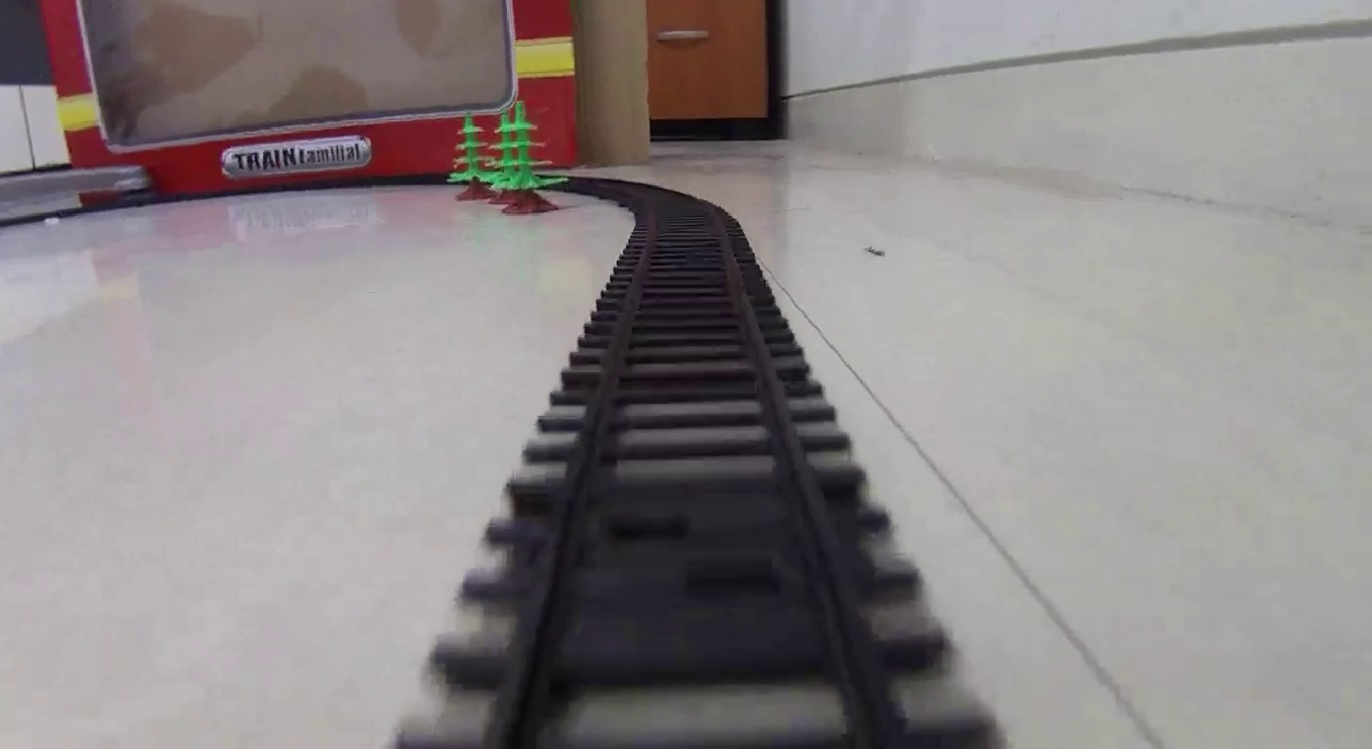tree: (495, 103, 563, 212), (448, 111, 499, 203)
